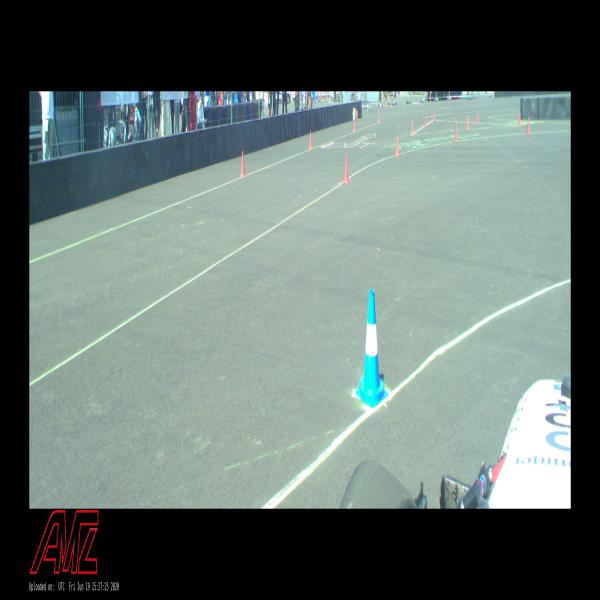blue_cone: (356, 289, 388, 406)
